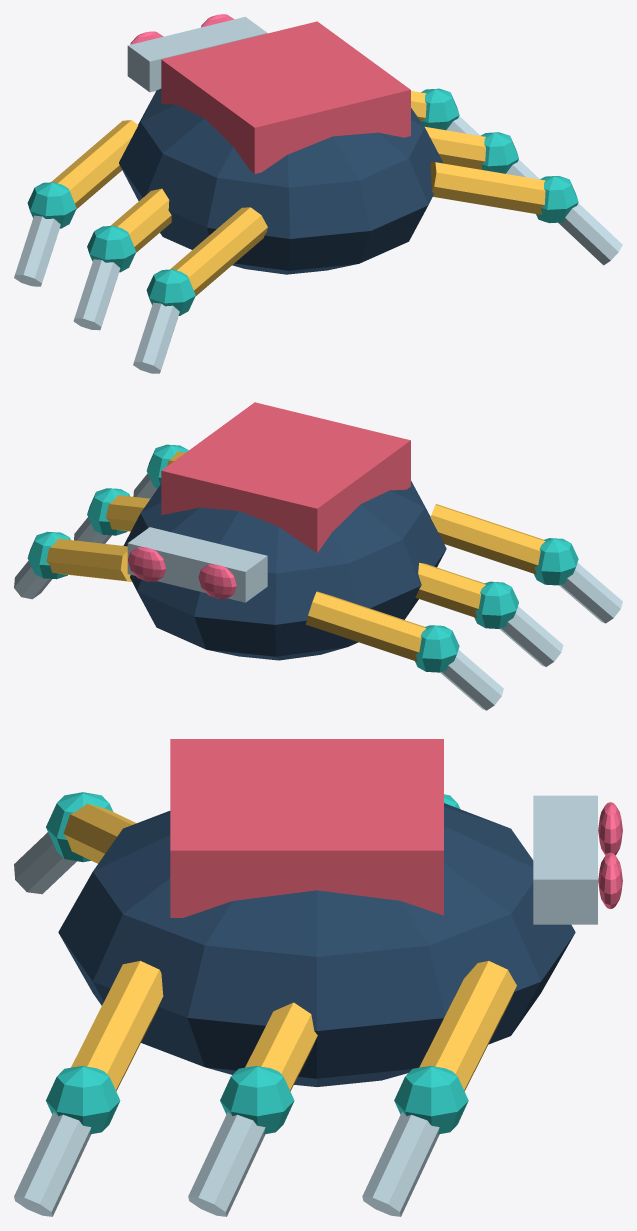
Rendered from enemy_crawler.gltf.
The picture shows the model from 3 angles, top to bottom: view 1: azimuth 30°, elevation 25°; view 2: azimuth 150°, elevation 25°; view 3: azimuth 270°, elevation 25°; orthographic projection. The views are drawn at different scales.
Bounding box in the file's own units: 1.65 × 0.577 × 1.22.
